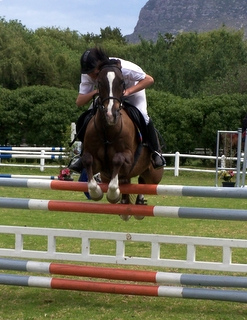person: (78, 49, 166, 170)
